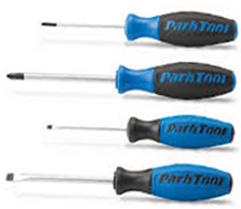Screwdriver: (3, 54, 241, 105), (1, 156, 241, 205), (32, 7, 241, 49), (34, 111, 241, 151)
